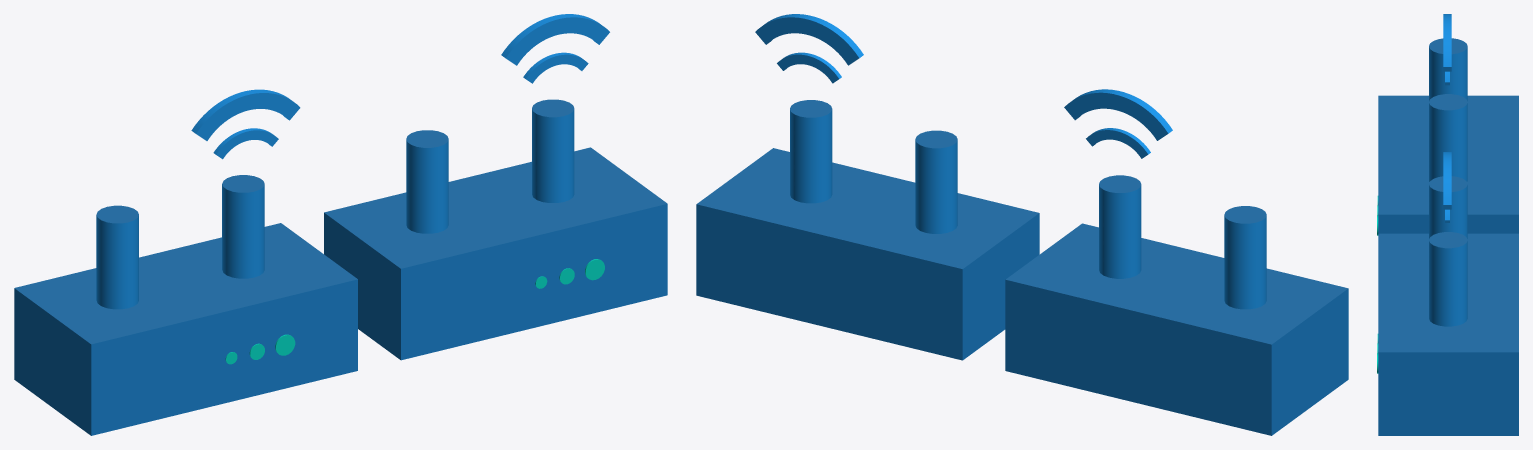
Rendered from internat.gltf.
The picture shows the model from 3 angles, left to right: view 1: azimuth 30°, elevation 25°; view 2: azimuth 150°, elevation 25°; view 3: azimuth 270°, elevation 25°; orthographic projection. The views are drawn at different scales.
Parts seen in each view (by area): view 1: Box277, Box278, 对象418, 对象415, Cylinder038, Cylinder042, Cylinder043, Cylinder047, Arc003, Arc005, Arc006, Arc004 (+4 smaller); view 2: Box277, Box278, 对象418, 对象415, Cylinder038, Cylinder047, Cylinder042, Cylinder043, Arc003, Arc005, Arc006, Arc004 (+4 smaller); view 3: 对象418, 对象415, Box278, Cylinder047, Cylinder042, Box277, Cylinder038, Cylinder043, Arc003, Arc005, 对象413, 对象416 (+2 smaller).
Part boxes in pixels (<box>): Box277: <box>14,279,357,435</box>; Box278: <box>324,204,667,360</box>; 对象418: <box>324,147,667,268</box>; 对象415: <box>14,223,357,344</box>; Cylinder038: <box>96,215,138,309</box>; Cylinder042: <box>222,184,264,278</box>; Cylinder043: <box>406,140,448,233</box>; Cylinder047: <box>532,109,574,202</box>; Arc003: <box>191,89,300,140</box>; Arc005: <box>501,14,609,65</box>; Arc006: <box>523,52,588,83</box>; Arc004: <box>213,128,278,159</box>; Box277: <box>1005,279,1348,435</box>; Box278: <box>696,204,1039,360</box>; 对象418: <box>697,148,1038,268</box>; 对象415: <box>1006,223,1347,344</box>; Cylinder038: <box>1224,215,1266,309</box>; Cylinder047: <box>790,109,832,203</box>; Cylinder042: <box>1099,185,1141,278</box>; Cylinder043: <box>915,140,957,233</box>; Arc003: <box>1064,89,1172,140</box>; Arc005: <box>755,14,863,65</box>; Arc006: <box>777,52,841,83</box>; Arc004: <box>1086,128,1150,158</box>; 对象418: <box>1378,233,1518,352</box>; 对象415: <box>1378,95,1518,214</box>; Box278: <box>1378,352,1518,435</box>; Cylinder047: <box>1429,241,1467,326</box>; Cylinder042: <box>1429,103,1467,181</box>; Box277: <box>1378,214,1518,233</box>; Cylinder038: <box>1429,47,1467,101</box>; Cylinder043: <box>1429,185,1467,238</box>; Arc003: <box>1443,14,1451,71</box>; Arc005: <box>1443,152,1451,209</box>; 对象413: <box>1429,94,1467,110</box>; 对象416: <box>1429,232,1467,248</box>.
Size of the model in its own units: 1.45 by 0.6449 by 0.3391.
